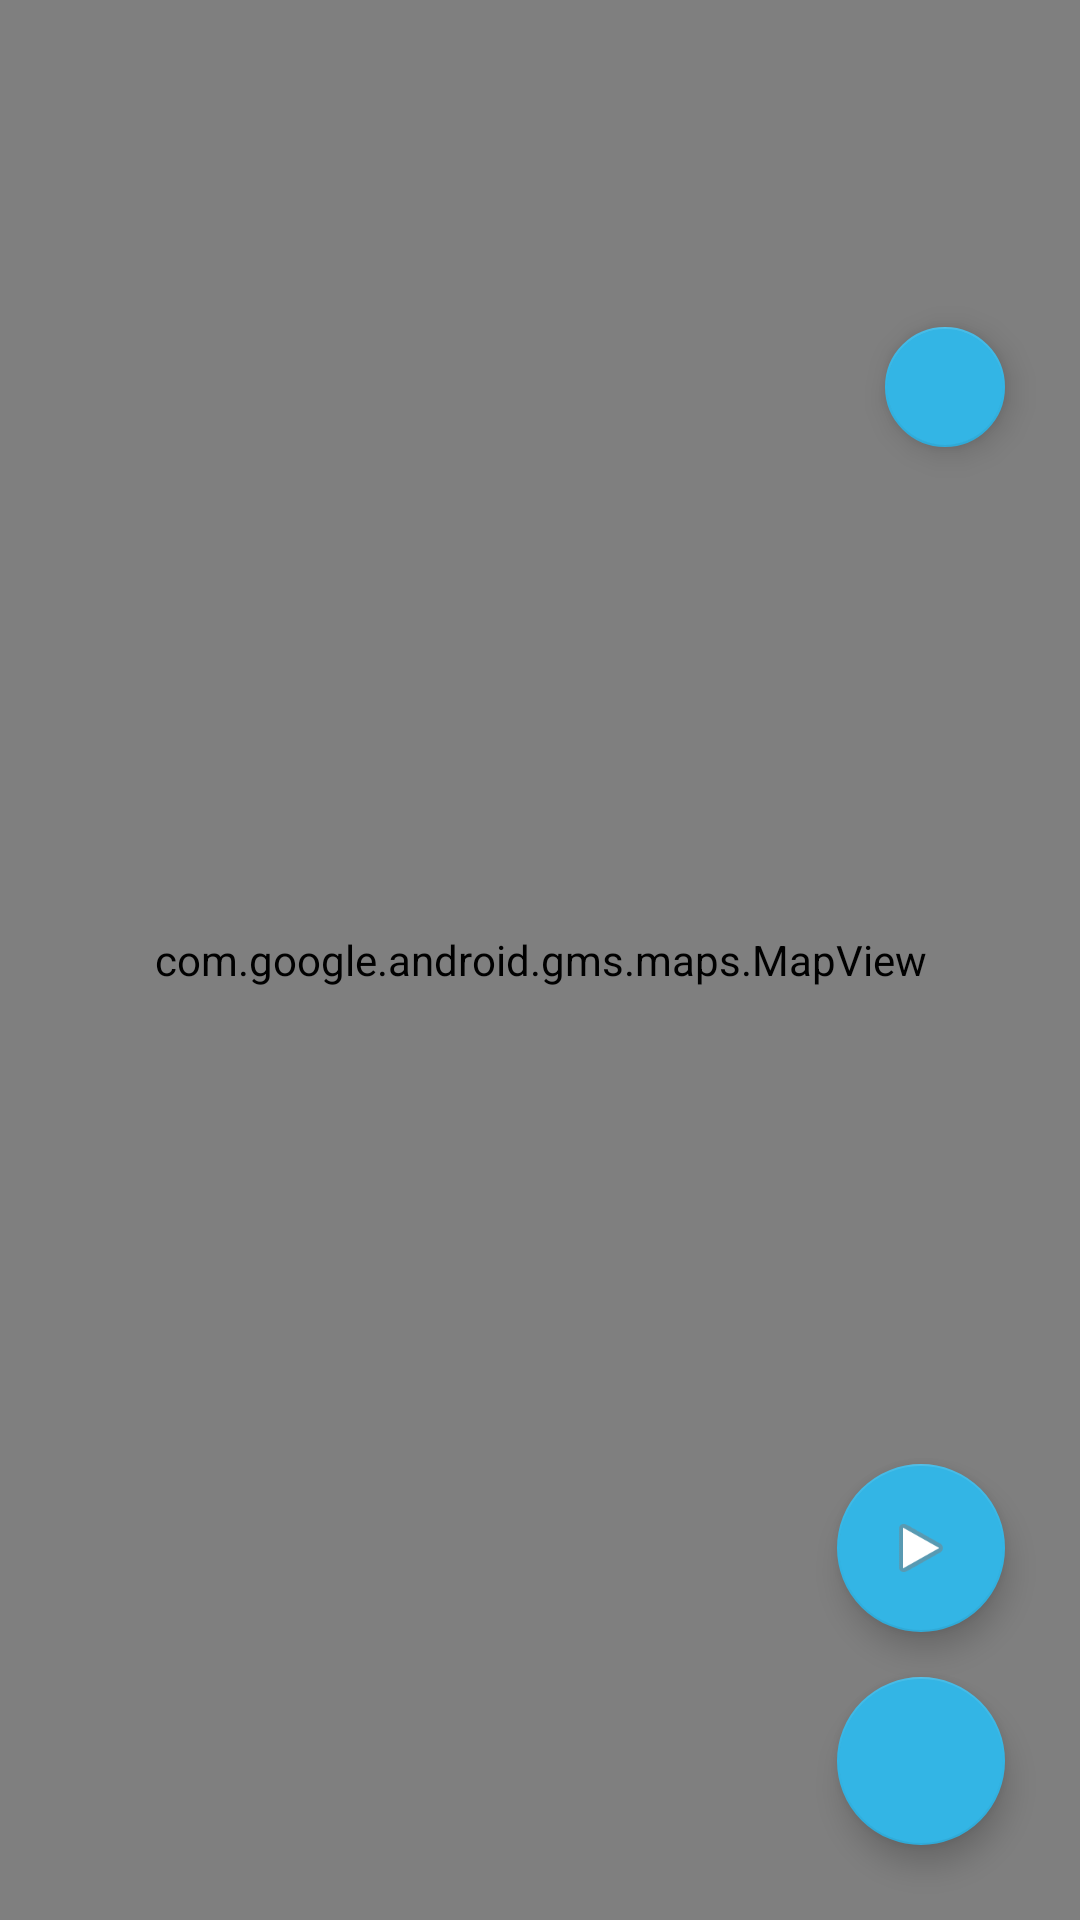

Named icons in this screenshot (1080 × 1920) and their bounding boxes, (x1, y1, x2, y2):
play: (837, 1464, 1005, 1632)
